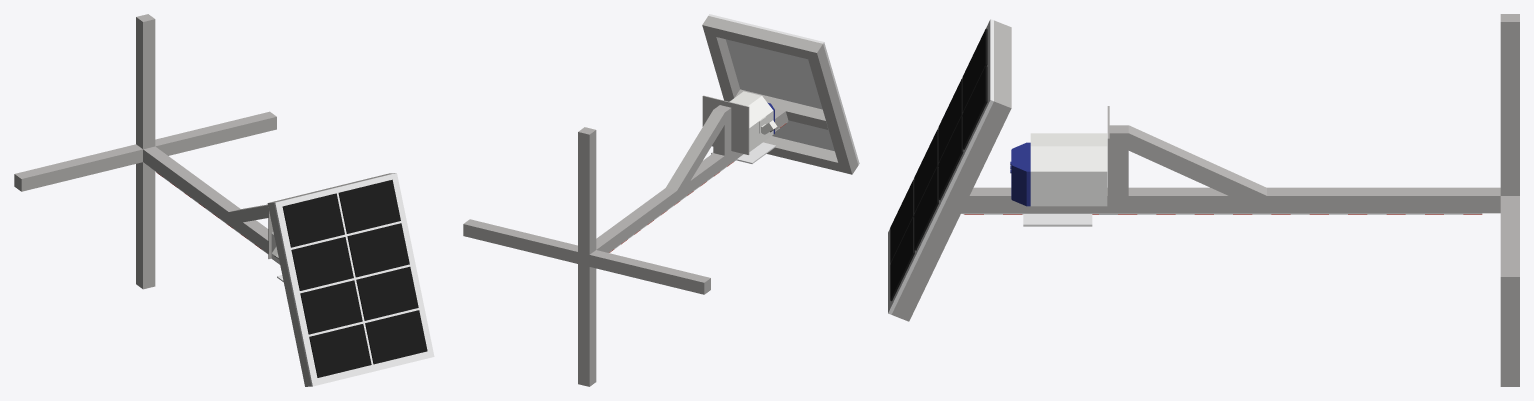
File: Aliyah.final.obj
3 renders of one model, left to right at view 1: azimuth 30°, elevation 25°; view 2: azimuth 150°, elevation 25°; view 3: azimuth 270°, elevation 25°, orthographic. The views are drawn at different scales.
Visible parts, largest first — view 1: Body287, Body1, Body10, Body4, Body3, Body289, Body294, Body295, Body292, Body288, Body290, Body293 (+3 smaller); view 2: Body8, Body1, Body287, Body10, Body4, Body3, Body2, Body283, Body26; view 3: Body1, Body8, Body283, Body10, Body287, Body2, Body3, Body26, Body286, Body293, Body294, Body292 (+5 smaller).
Boxes of the visible parts, bbox=[...] form: Body287: bbox=[274, 173, 434, 386]; Body1: bbox=[143, 146, 273, 258]; Body10: bbox=[136, 14, 155, 149]; Body4: bbox=[14, 144, 142, 191]; Body3: bbox=[136, 162, 155, 289]; Body289: bbox=[282, 193, 344, 247]; Body294: bbox=[347, 223, 409, 277]; Body295: bbox=[365, 310, 427, 364]; Body292: bbox=[356, 266, 418, 320]; Body288: bbox=[300, 280, 362, 334]; Body290: bbox=[291, 237, 353, 290]; Body293: bbox=[338, 179, 400, 233]; Body8: bbox=[702, 16, 858, 174]; Body1: bbox=[578, 95, 788, 266]; Body287: bbox=[708, 14, 859, 165]; Body10: bbox=[578, 127, 596, 254]; Body4: bbox=[589, 250, 710, 294]; Body3: bbox=[578, 264, 596, 386]; Body2: bbox=[463, 219, 577, 263]; Body283: bbox=[729, 91, 777, 151]; Body26: bbox=[609, 122, 787, 252]; Body1: bbox=[961, 106, 1500, 213]; Body8: bbox=[891, 20, 1011, 321]; Body283: bbox=[1030, 133, 1107, 206]; Body10: bbox=[1500, 14, 1519, 195]; Body287: bbox=[888, 19, 993, 314]; Body2: bbox=[1500, 196, 1519, 294]; Body3: bbox=[1500, 294, 1519, 386]; Body26: bbox=[961, 213, 1482, 226]; Body286: bbox=[1010, 142, 1030, 206]; Body293: bbox=[962, 66, 987, 149]; Body294: bbox=[938, 116, 963, 200]; Body292: bbox=[914, 167, 938, 250].
Bounding box in the file's own units: 105 × 105 × 165.
